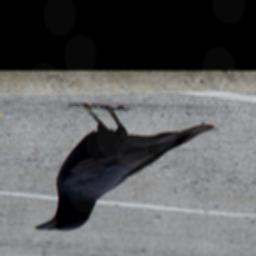Crow: (33, 103, 215, 231)
